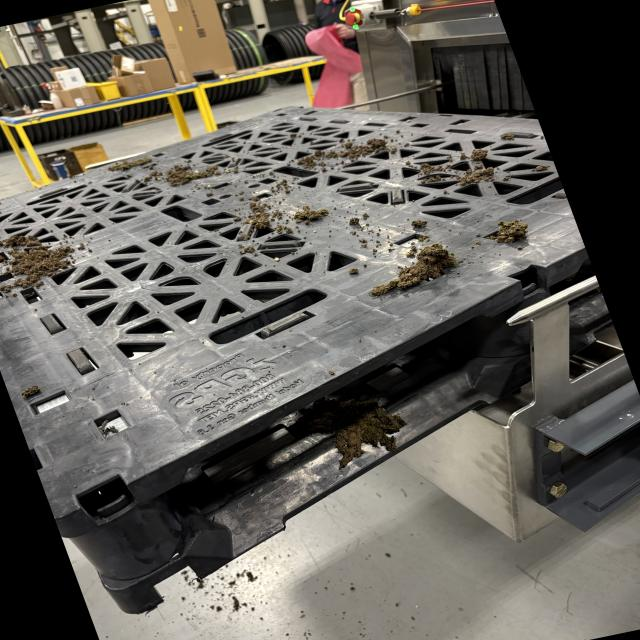igps: (0, 93, 623, 619)
